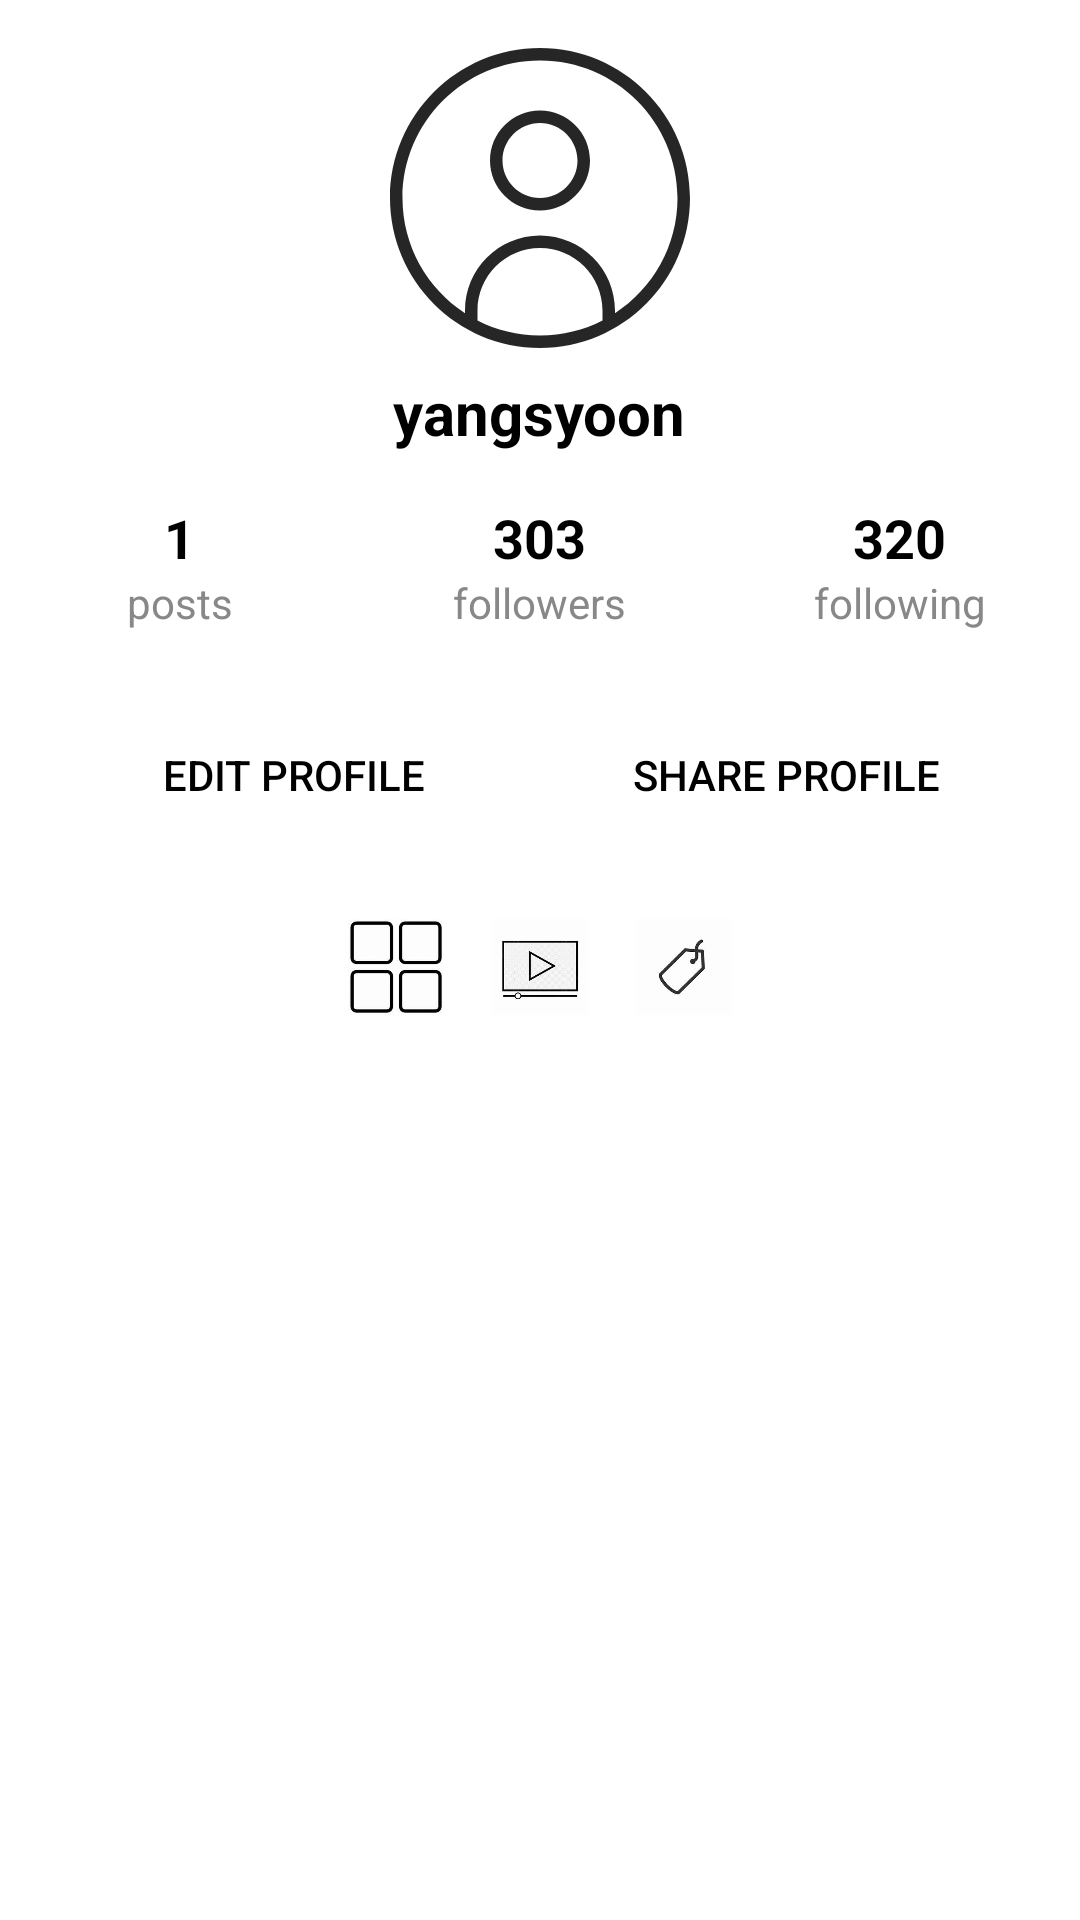

Named icons in this screenshot (1080*1920) and their centers, (x,y):
circle user: (540,198)
posts: (396,967)
tags: (682,967)
videos: (539,969)
